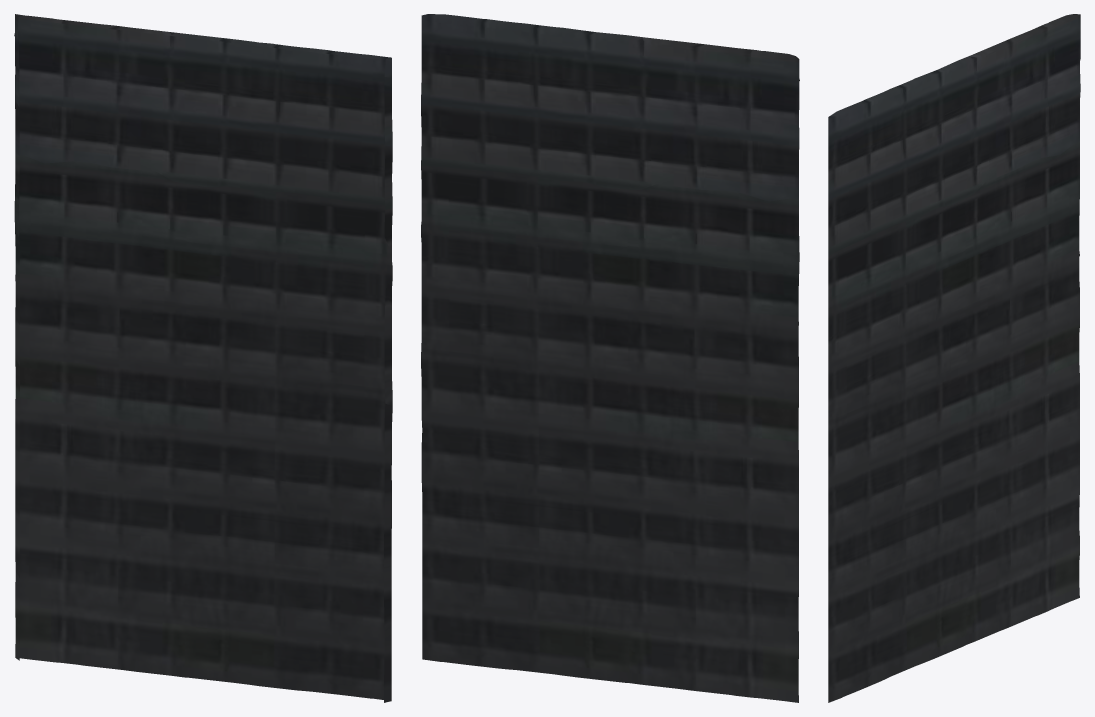
File: z20-167776-405235-h1-yup-uvflip-v3-world.glb
3 renders of one model, left to right at view 1: azimuth 30°, elevation 25°; view 2: azimuth 210°, elevation 25°; view 3: azimuth 270°, elevation 25°, orthographic. The views are drawn at different scales.
Size of the model in its own units: 15.32 by 39.32 by 15.4.
1 material, 1 textured.
